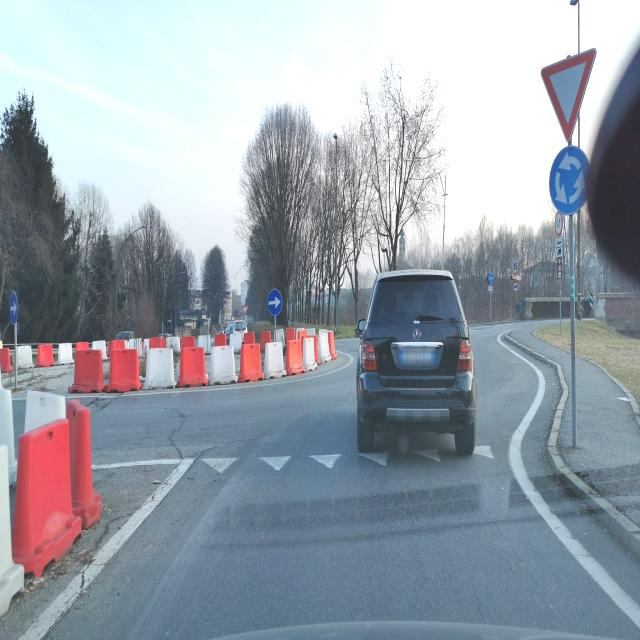car: (355, 267, 476, 455), (232, 319, 246, 334), (224, 321, 233, 335)
